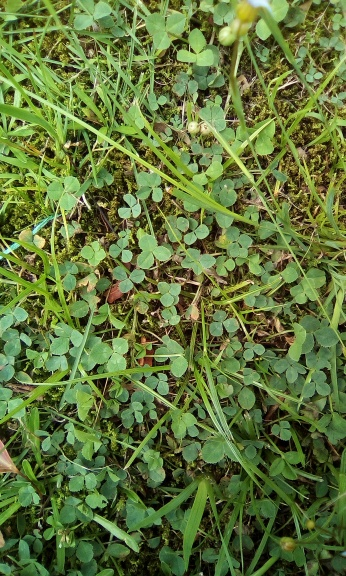4leaf: (181, 248, 217, 277), (135, 171, 164, 203), (290, 278, 320, 305), (80, 241, 107, 268)
